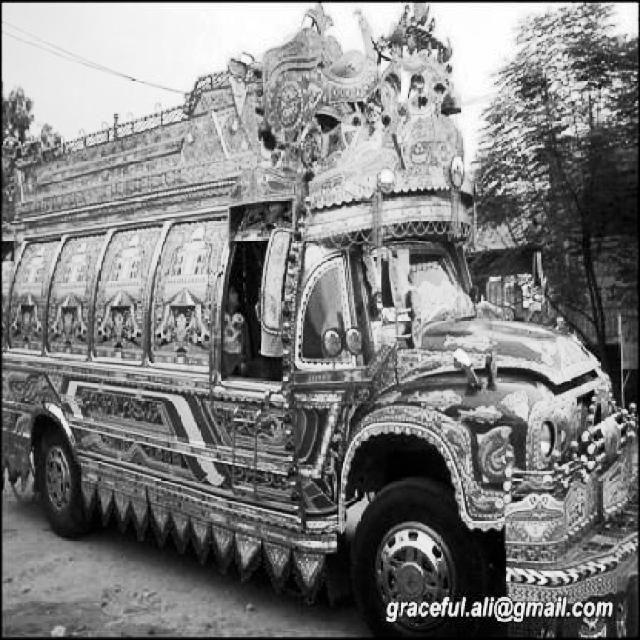HCV: (35, 109, 638, 627)
